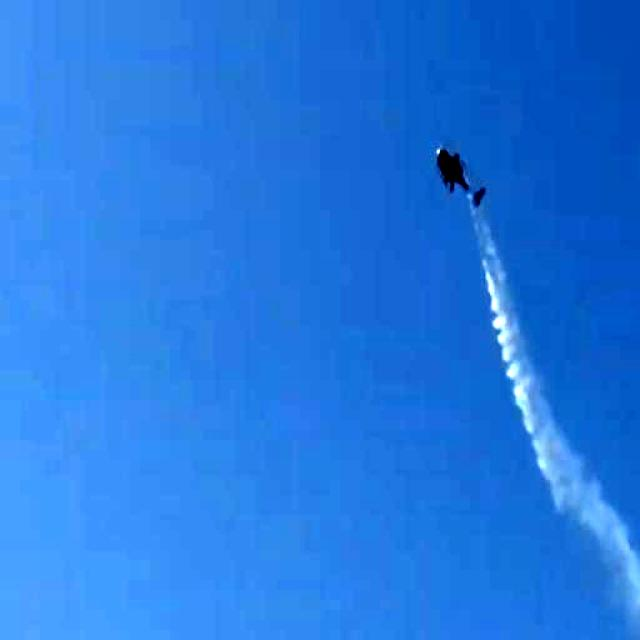drone: (430, 131, 491, 219)
